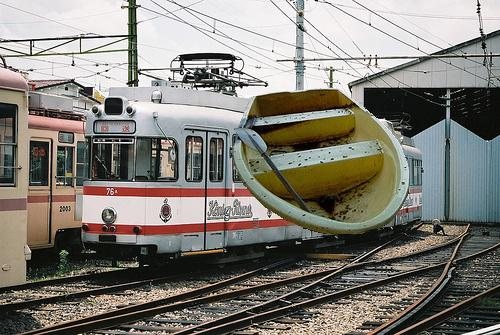tampered: (234, 89, 409, 234)
